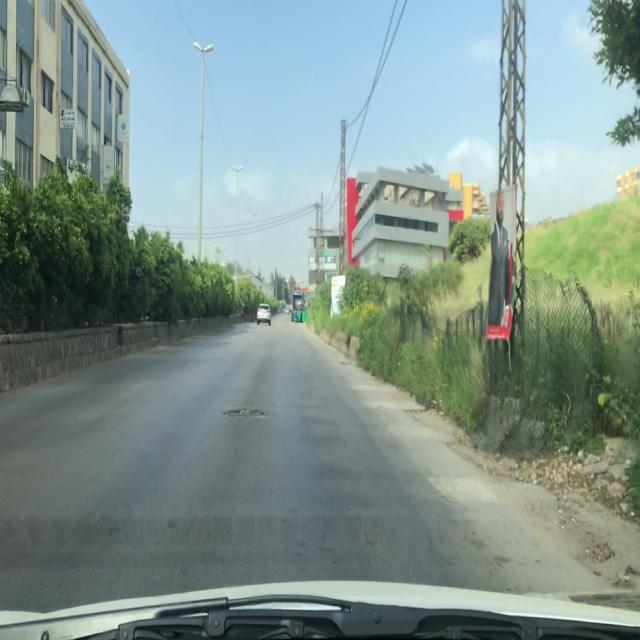Pothole: (221, 404, 273, 422)
